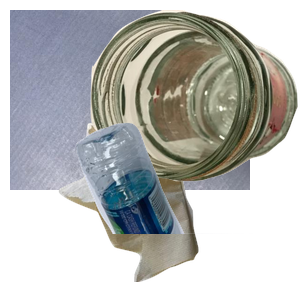cardboard: (10, 10, 250, 190)
glass: (90, 10, 300, 184)
plastic: (73, 120, 300, 300)
trash: (56, 120, 247, 300)
